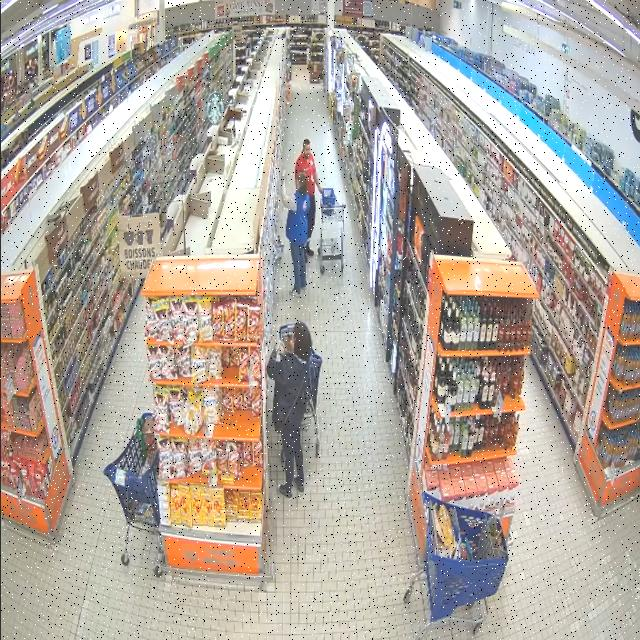bags: (273, 377, 307, 433)
hands: (276, 340, 286, 355), (282, 169, 286, 182)
person: (267, 322, 311, 499), (281, 172, 310, 297), (295, 139, 321, 258)
